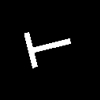half_double_crochet: (25, 32, 70, 67)
